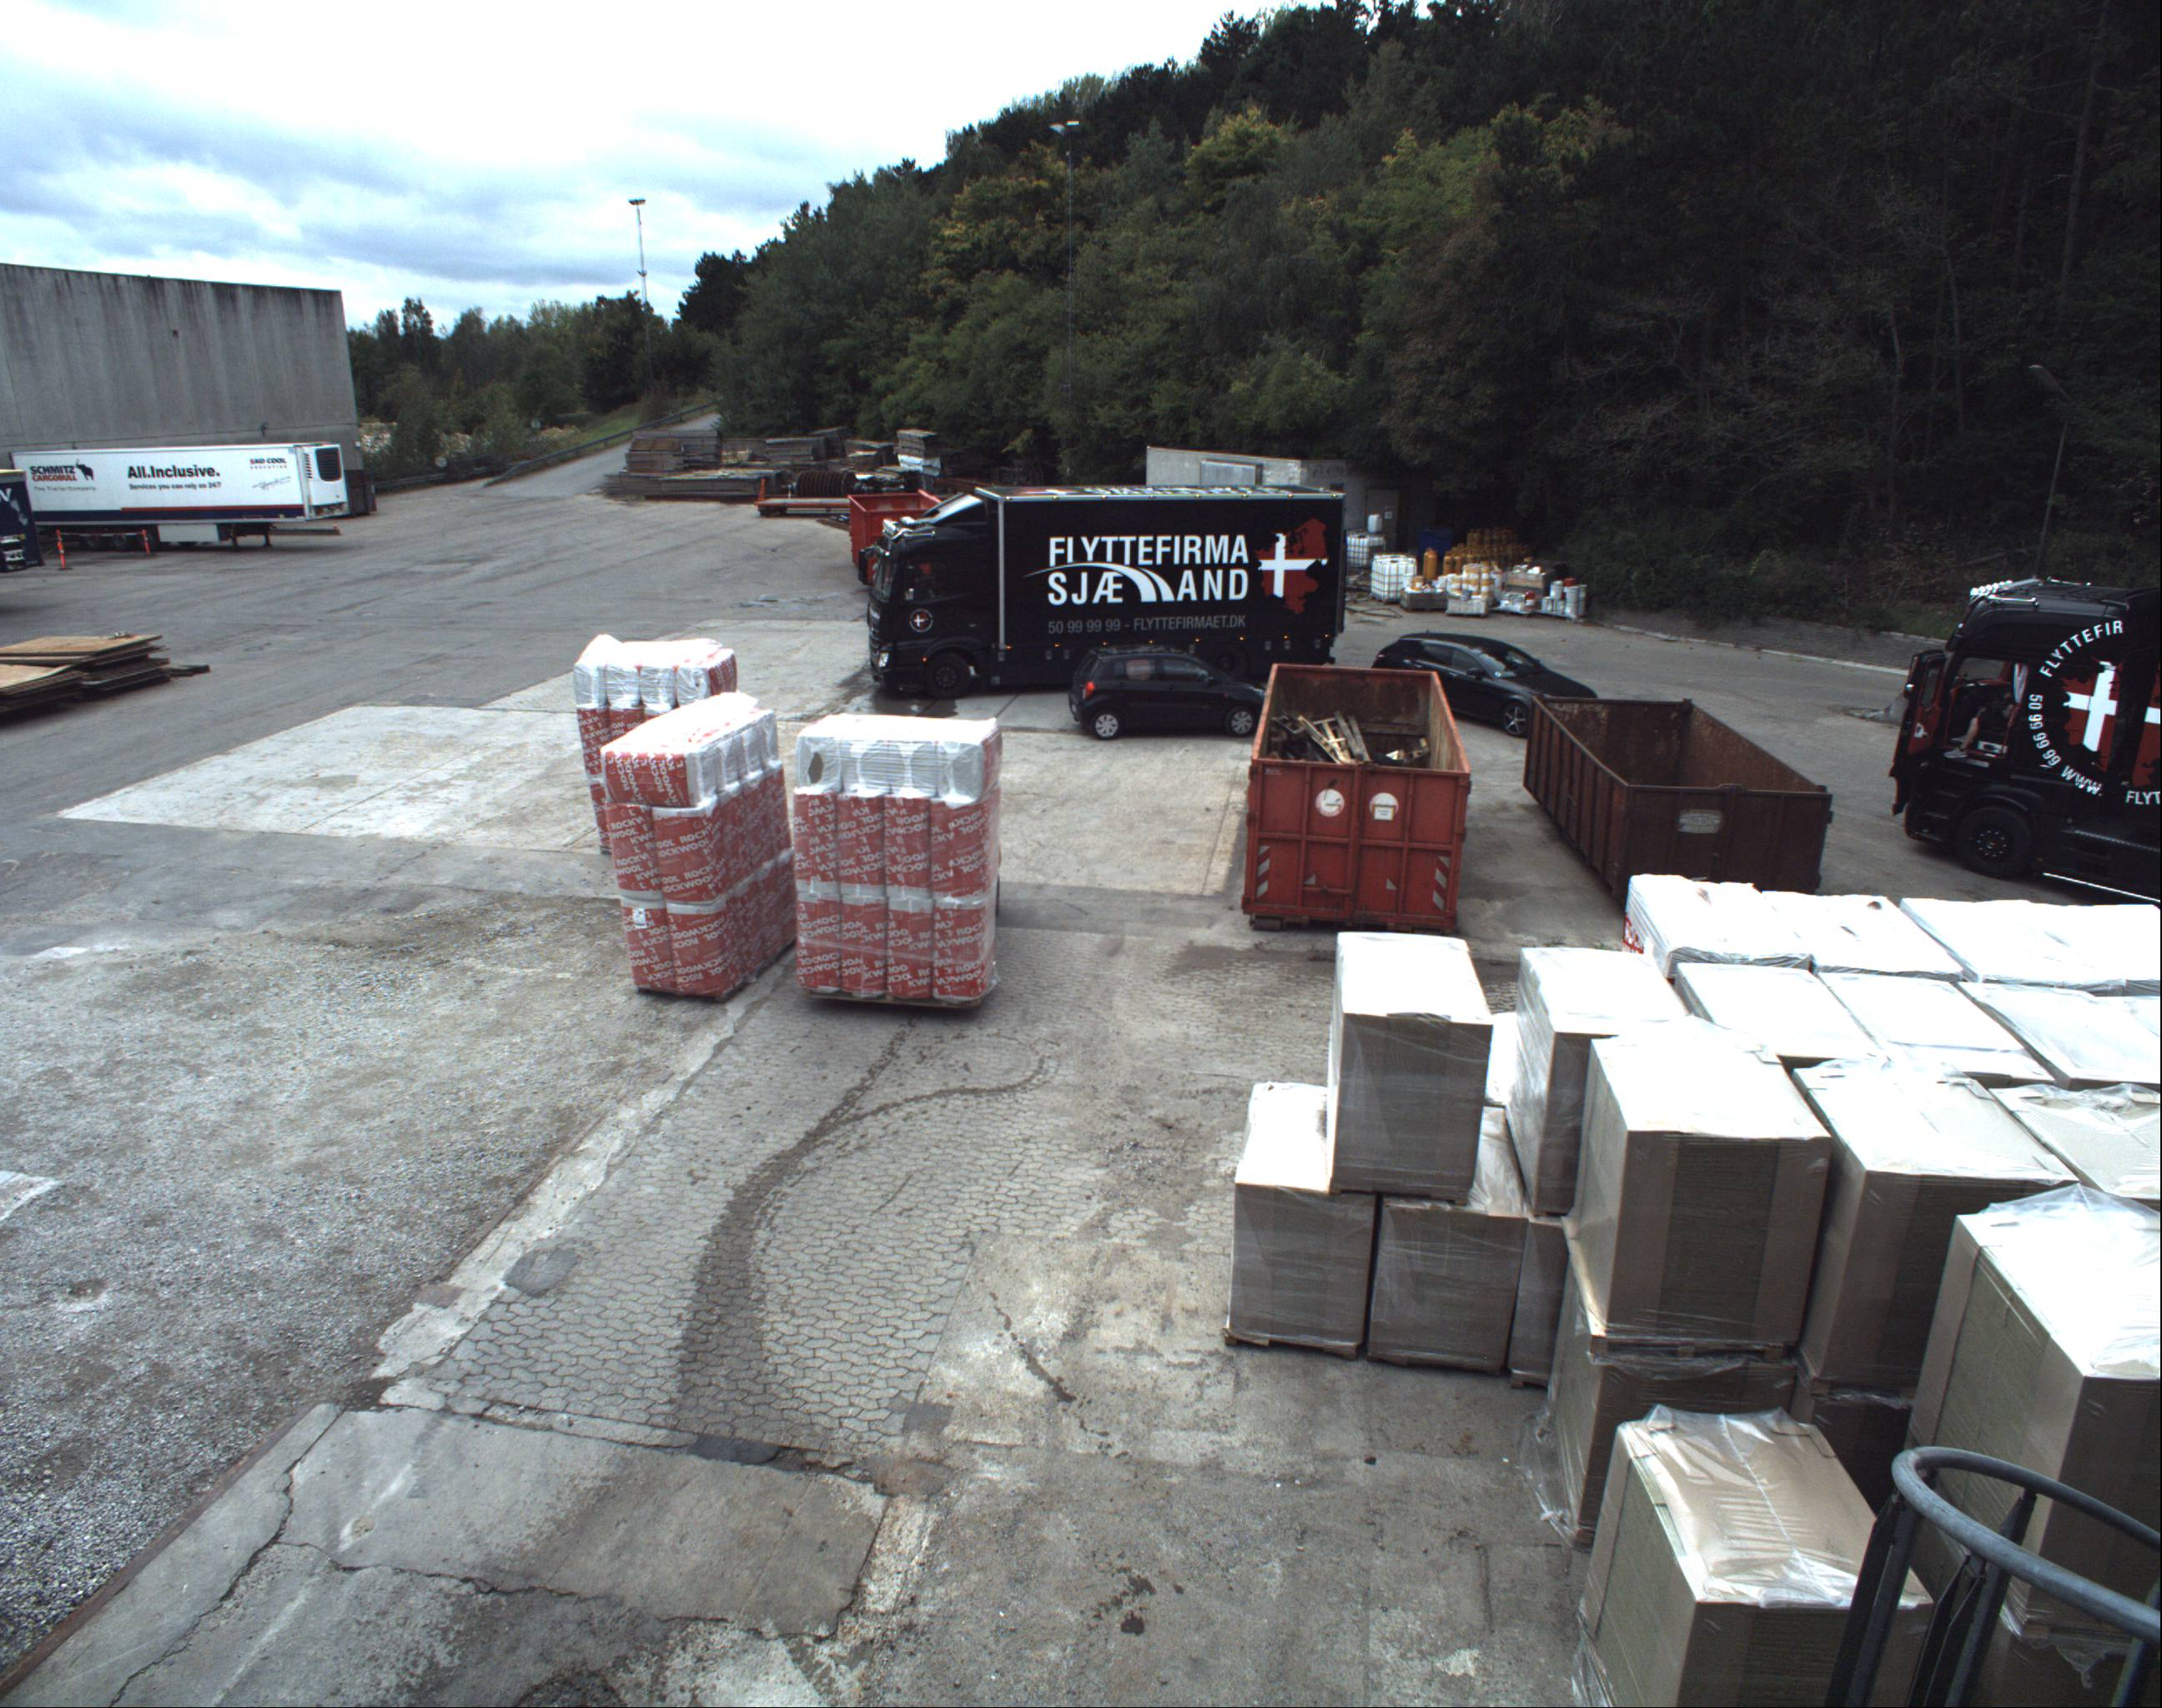rockwool_batts: (593, 683, 805, 997), (788, 709, 1006, 1002), (579, 621, 732, 751)
